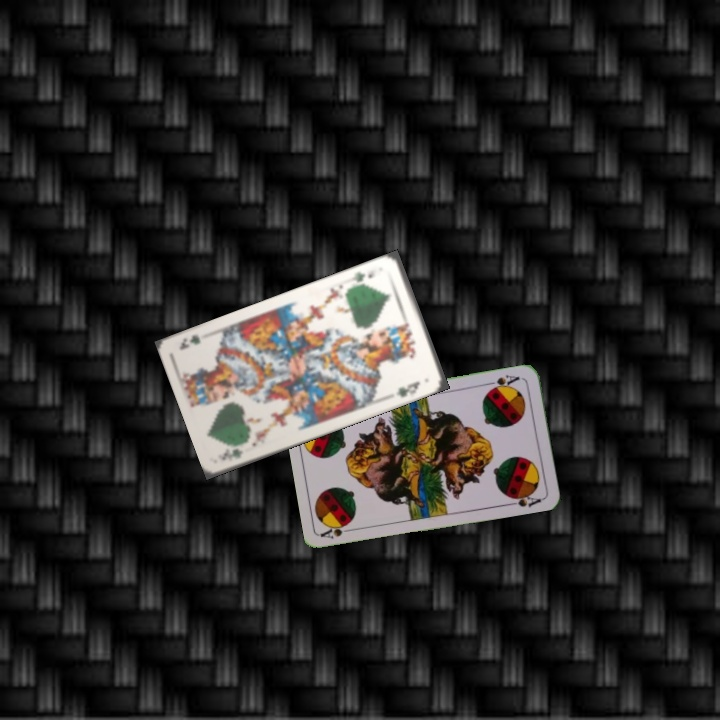GK: (348, 266, 378, 290), (218, 445, 246, 462)
SA: (318, 520, 358, 541), (484, 371, 522, 393)
